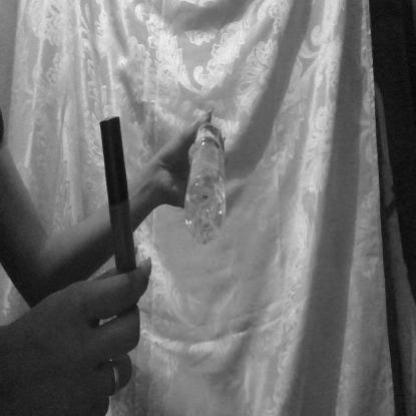Plastic Bottle: (175, 109, 254, 284)
